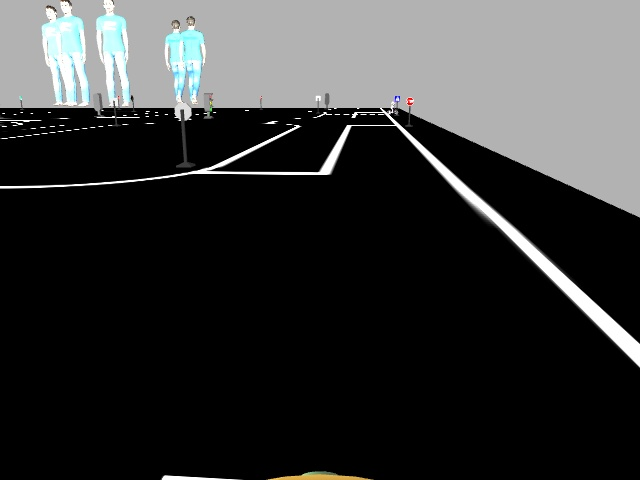Stop: (404, 95, 414, 106)
TrafficLight: (201, 92, 214, 113)
